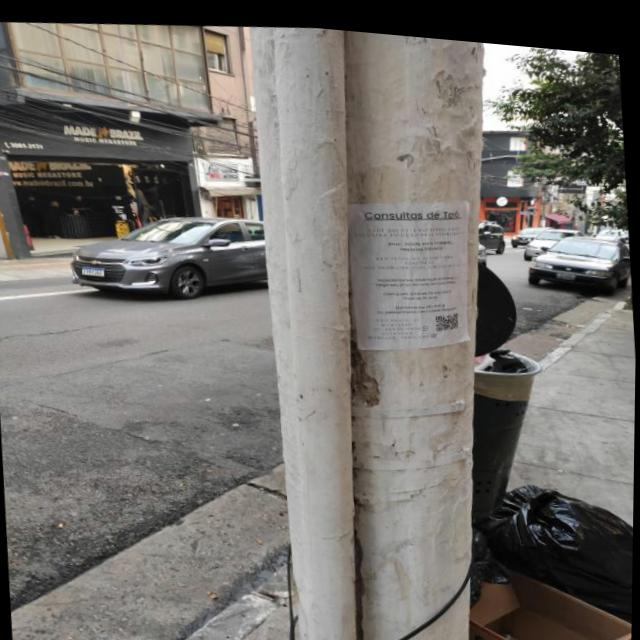qrcode: (437, 304, 460, 325)
